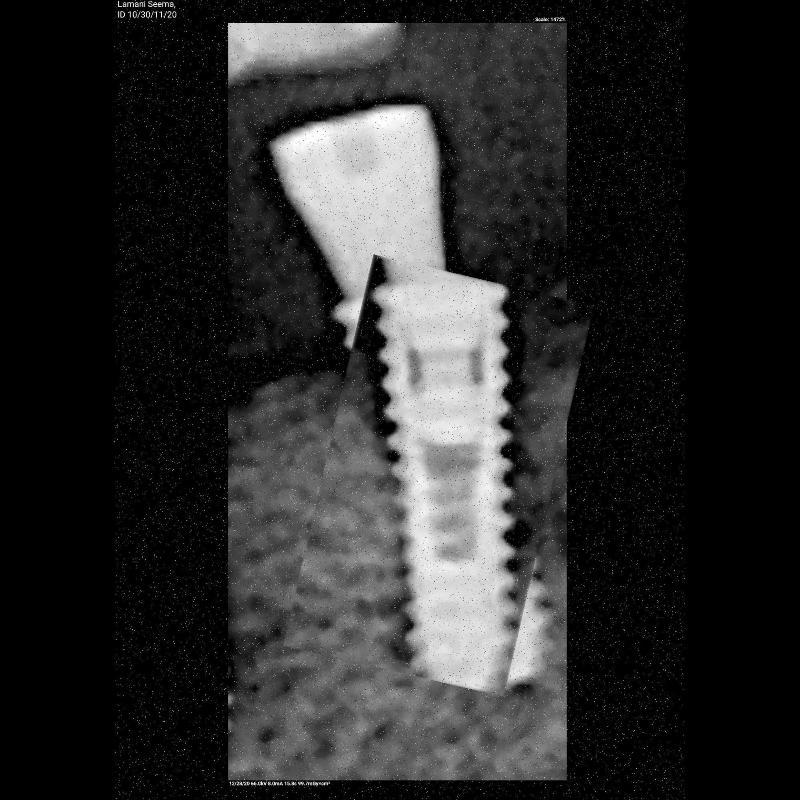osstem: (305, 265, 573, 687)
